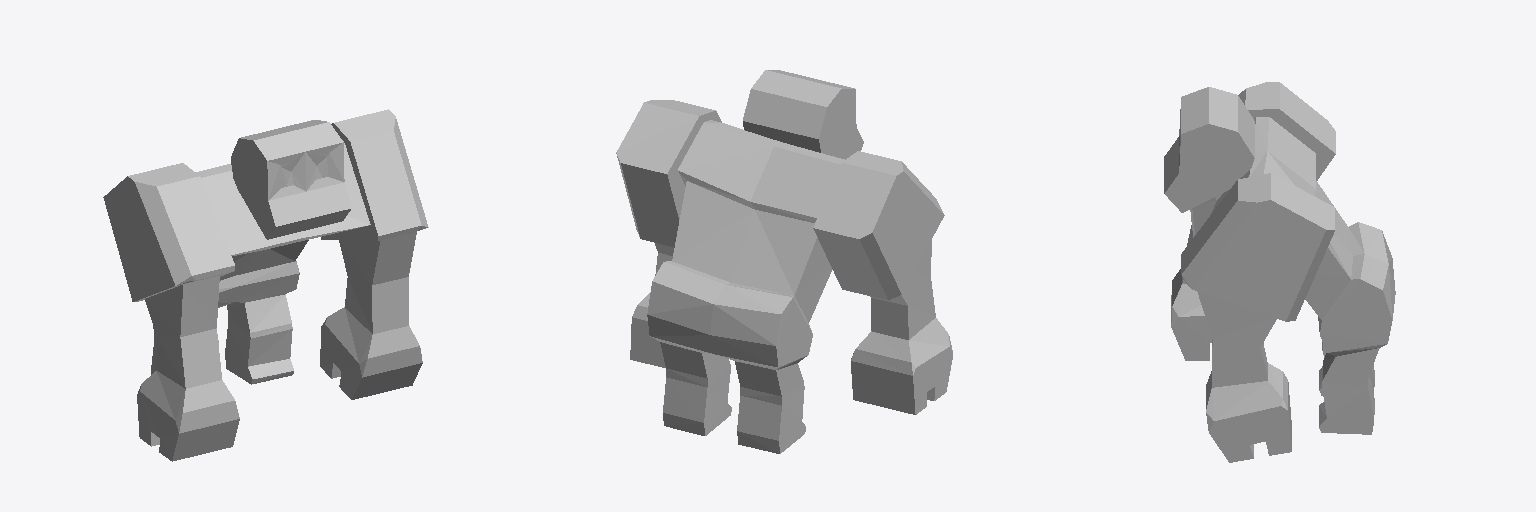
File: kong_000004.obj
3 renders of one model, left to right at view 1: azimuth 30°, elevation 25°; view 2: azimuth 150°, elevation 25°; view 3: azimuth 270°, elevation 25°, orthographic.
Visible parts, largest first — view 1: Cube; view 2: Cube; view 3: Cube.
Boxes of the visible parts, box(x1,y1,x2,y2) form: Cube: box(103, 109, 428, 461); Cube: box(616, 70, 952, 453); Cube: box(1164, 82, 1395, 462).
Size of the model in its own units: 5.84 by 6.38 by 4.43.